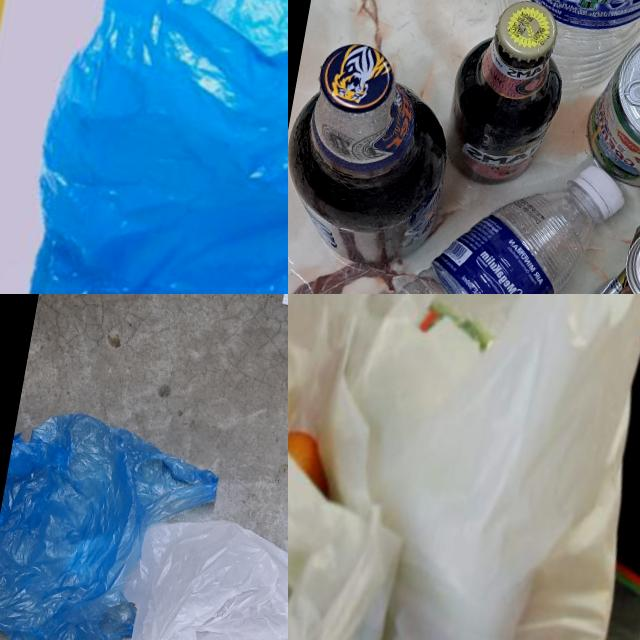aba de lata: (622, 65, 640, 113)
garrafa de vidro: (288, 32, 466, 281), (438, 0, 577, 196)
garrafa plástica: (296, 151, 596, 294), (480, 0, 640, 118)
lata: (576, 15, 640, 199), (578, 198, 640, 294)
sacola plástica: (288, 294, 640, 640), (0, 0, 288, 294), (0, 351, 288, 640), (288, 294, 465, 640)
tampa plástica: (569, 163, 630, 220)
